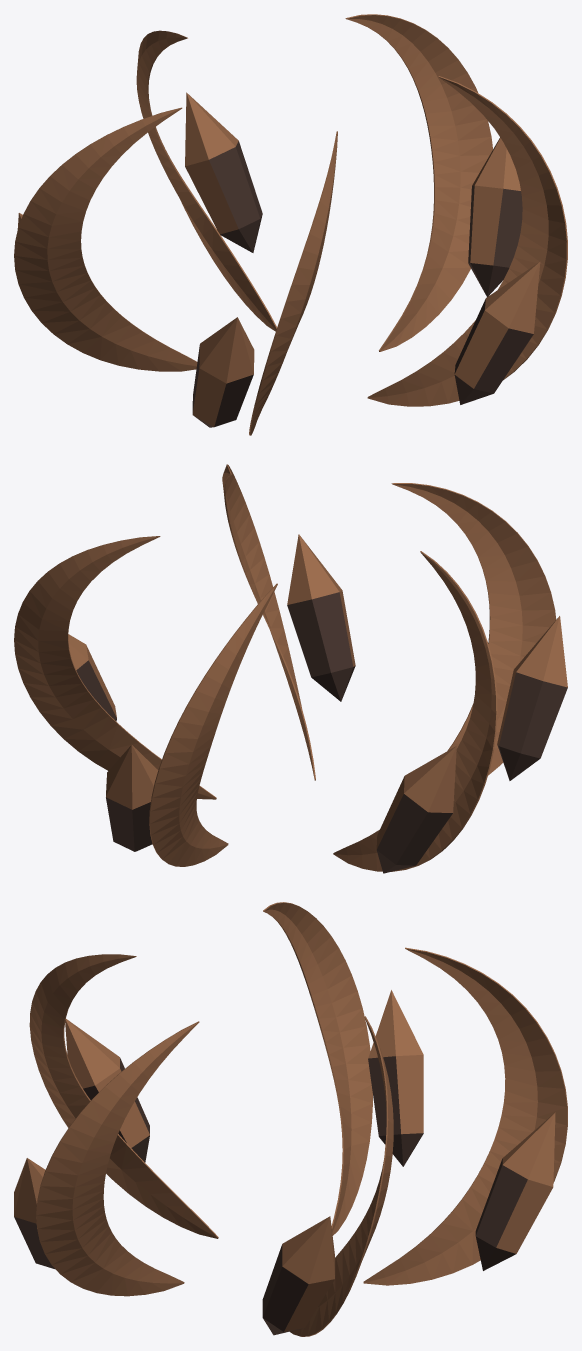
File: VFX_38_RocciaArtiglioTellurico.fbx
3 renders of one model, top to bottom at view 1: azimuth 30°, elevation 25°; view 2: azimuth 150°, elevation 25°; view 3: azimuth 270°, elevation 25°, orthographic. The views are drawn at different scales.
Visible parts, largest first — view 1: VFX_38_RocciaArtiglioTellurico; view 2: VFX_38_RocciaArtiglioTellurico; view 3: VFX_38_RocciaArtiglioTellurico.
Part boxes in pixels (x1=…): VFX_38_RocciaArtiglioTellurico: x1=14, y1=14, x2=567, y2=435; VFX_38_RocciaArtiglioTellurico: x1=14, y1=464, x2=567, y2=873; VFX_38_RocciaArtiglioTellurico: x1=14, y1=902, x2=567, y2=1336.
Bounding box in the file's own units: 361 × 212 × 352.
Materials: 1 (1 with a texture image).
